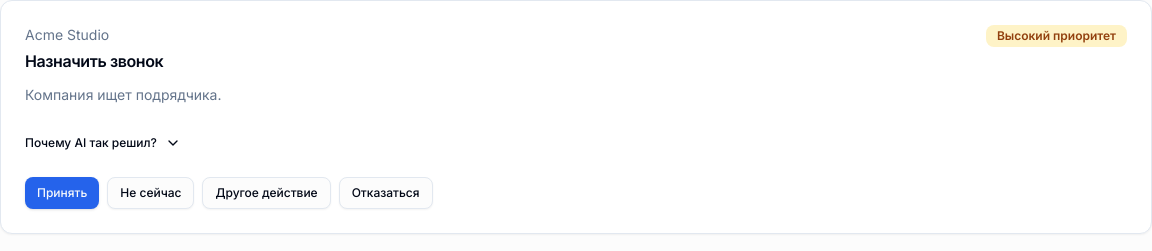
Test case: NeedsDecisionCard › disables action controls while a request is in flight
Click the button "Принять". click: (62, 193)
box: [25,177,99,209]
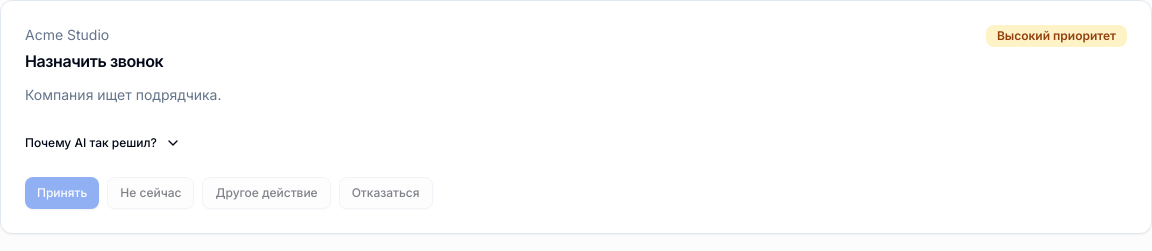
Check: the button "Принять" is disabled, box [25,177,99,209]
Check: the button "Не сейчас" is disabled, box [107,177,194,209]
Check: the button "Другое действие" is disabled, box [202,177,331,209]
